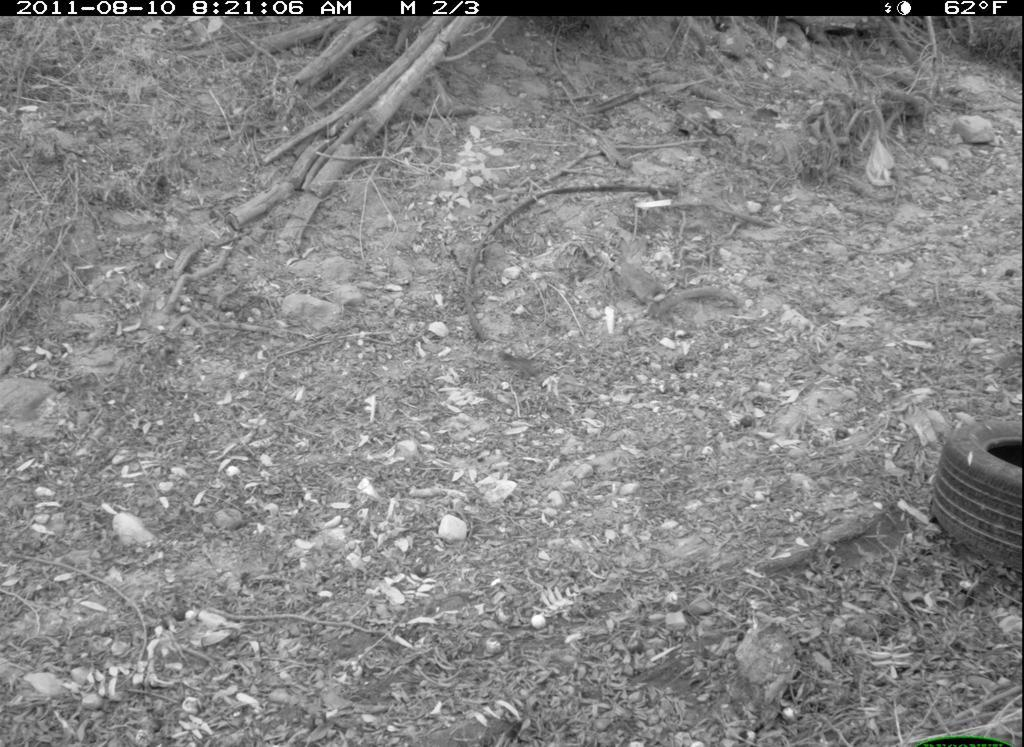rabbit: (611, 234, 675, 317)
